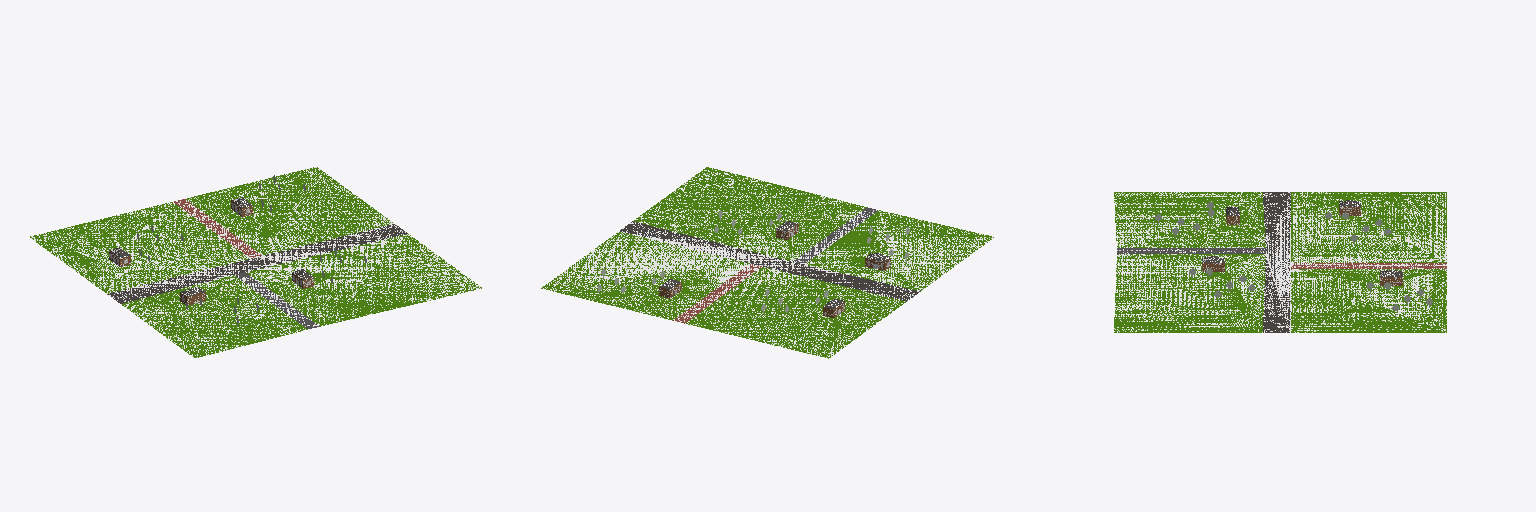
File: houses.obj
3 views of the same model, side by side, from view 1: azimuth 30°, elevation 25°; view 2: azimuth 150°, elevation 25°; view 3: azimuth 270°, elevation 25° (orthographic).
Parts seen in each view (by area): view 1: mesh_25_0; view 2: mesh_25_0; view 3: mesh_25_0.
Boxes of the visible parts, x1,y1,x2,y2 form: mesh_25_0: [30, 167, 481, 357]; mesh_25_0: [541, 167, 993, 358]; mesh_25_0: [1114, 192, 1446, 332].
Bounding box in the file's own units: 11718 × 533 × 11729.